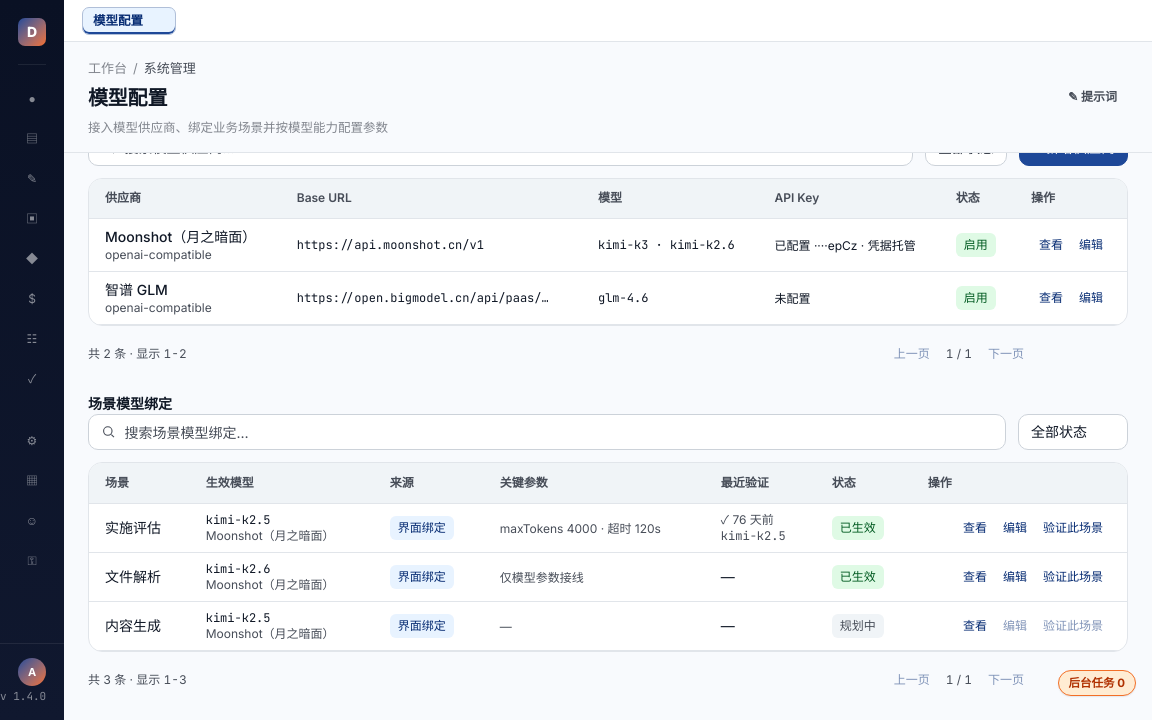
Test: ModelProviders · 多供应商管理（ISS-2026-08-11-001 / RP-055） › 场景编辑弹窗按模型 supportedParams 动态锁定采样参数（RP-055 批 3）
(page scrolled)
Click the button "编辑" in the row of "实施评估". click: (1015, 528)
box: [995,512,1035,544]
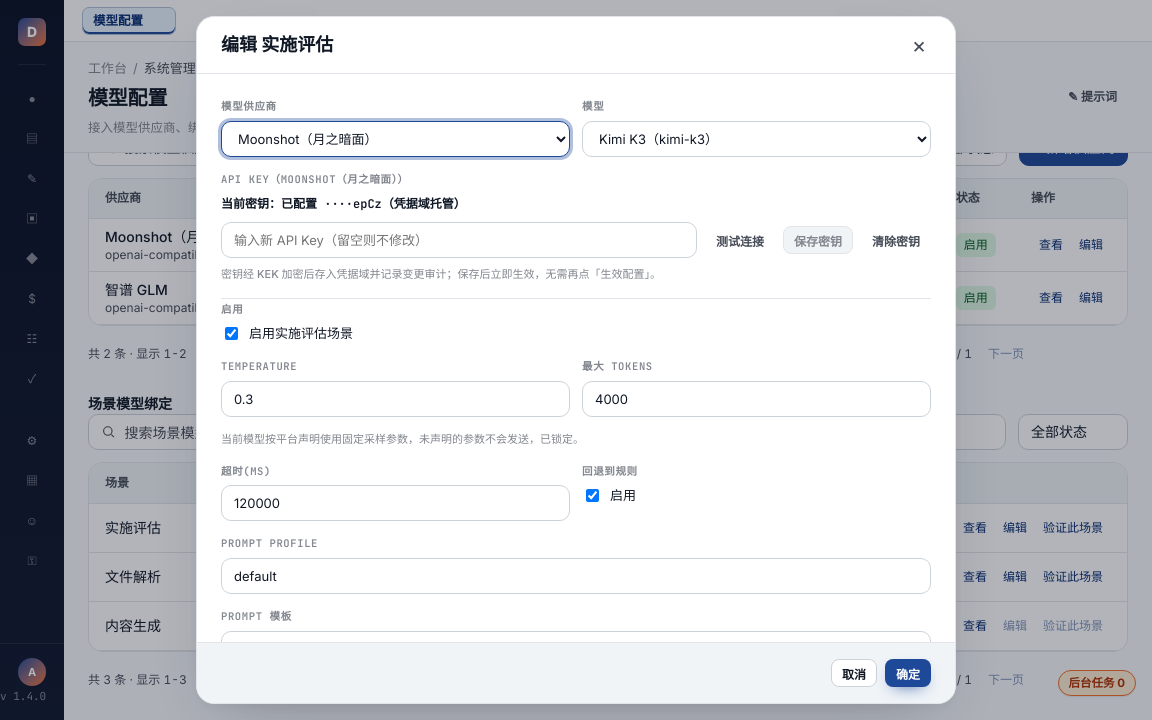
Expected: the number field below "Temperature" is disabled, [221,381,570,417]
Expected: the text "当前模型按平台声明使用固定采样参数，未声明的参数不会发送，已锁定。" is shown, [221,432,584,446]
Expected: the number field below "最大 Tokens" is enabled, [582,381,931,417]
// 切换到智谱 GLM（glm-4.6 声明支持 temperature）：Temperature 恢复可配
Select "智谱 GLM" in the 1st dropdown. click: (396, 139)
box: [221,121,570,157]
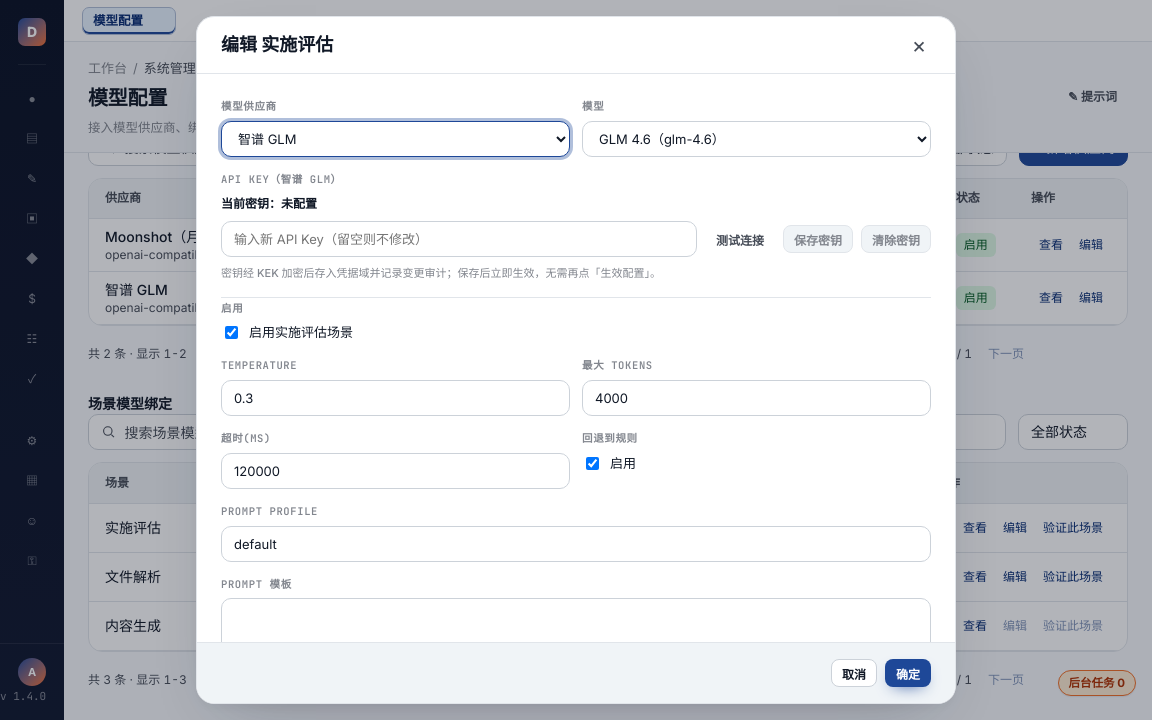
Expected: the number field below "Temperature" is enabled, [221,380,570,416]
